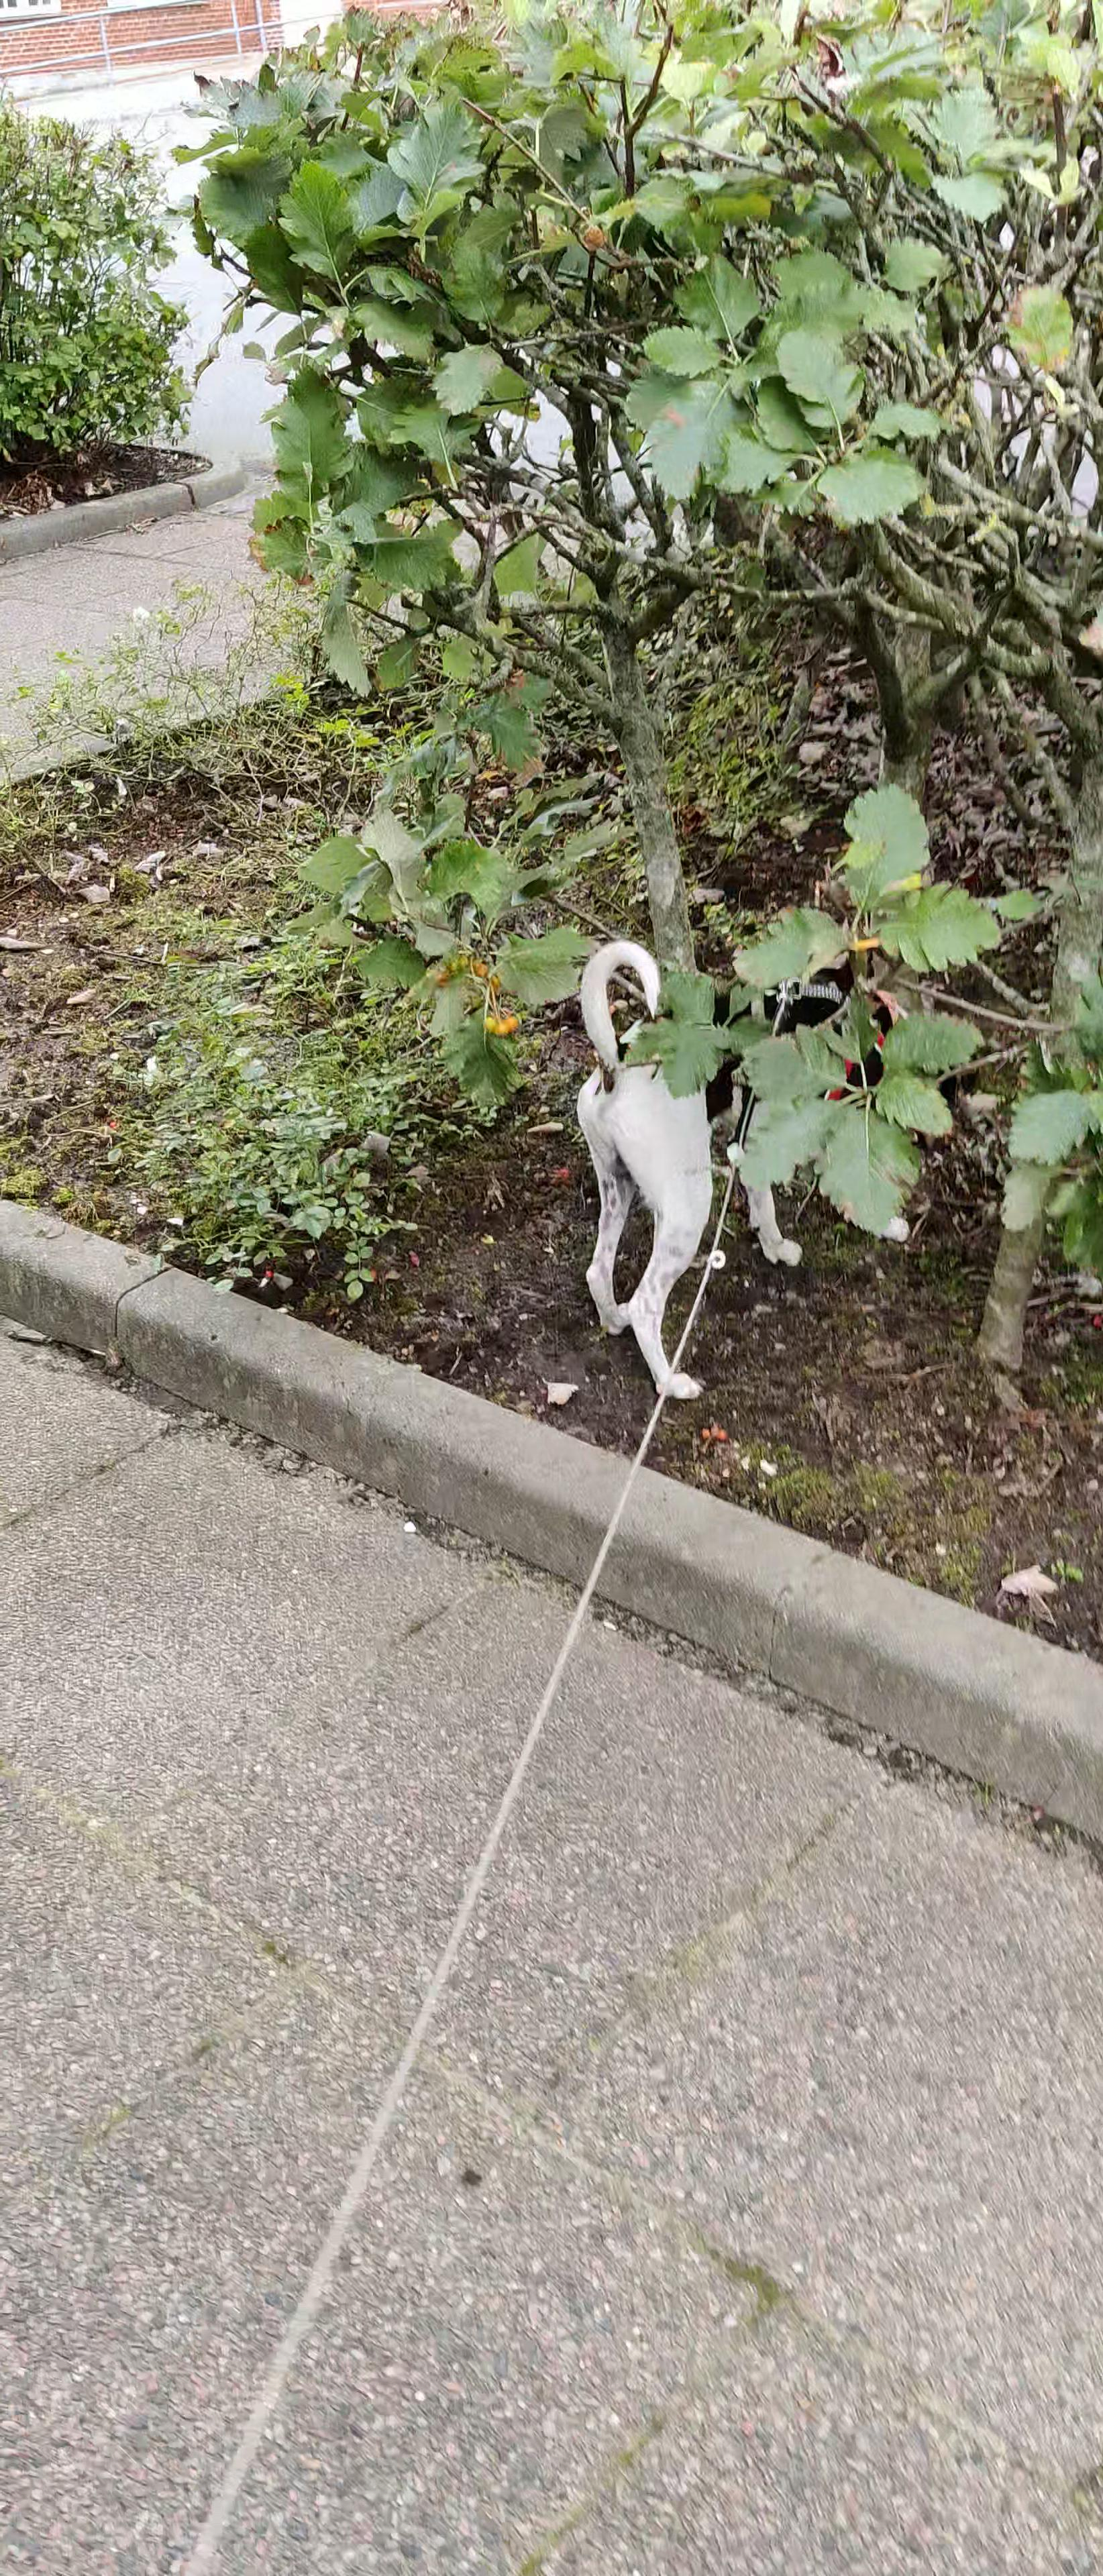Dog: (546, 940, 939, 1410)
